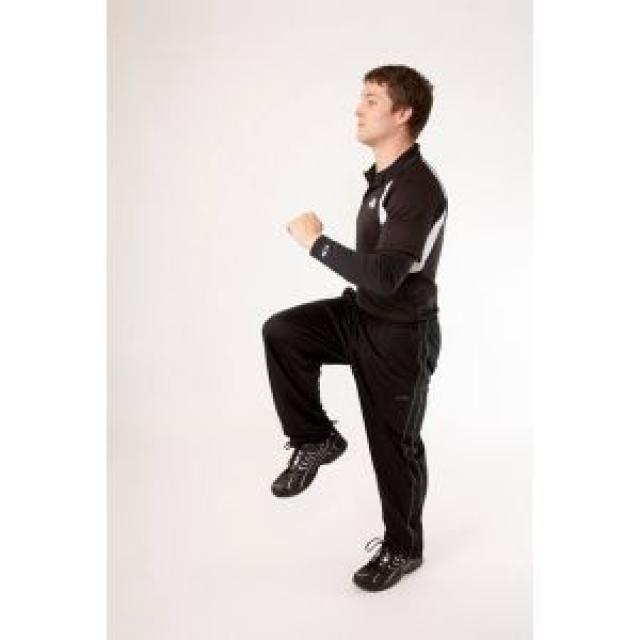adult: (267, 49, 450, 614)
